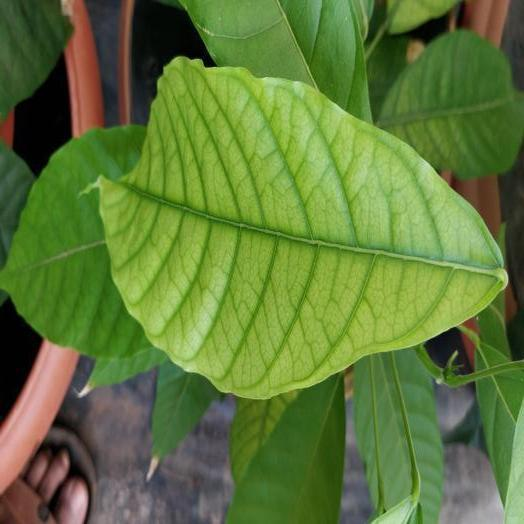Healthy Leaf: (0, 126, 151, 356), (181, 0, 369, 118), (226, 375, 345, 523), (354, 350, 442, 523), (148, 362, 219, 479), (477, 360, 523, 506), (82, 348, 167, 392), (473, 296, 511, 370)
Iron: (99, 57, 506, 397), (379, 30, 523, 178)
